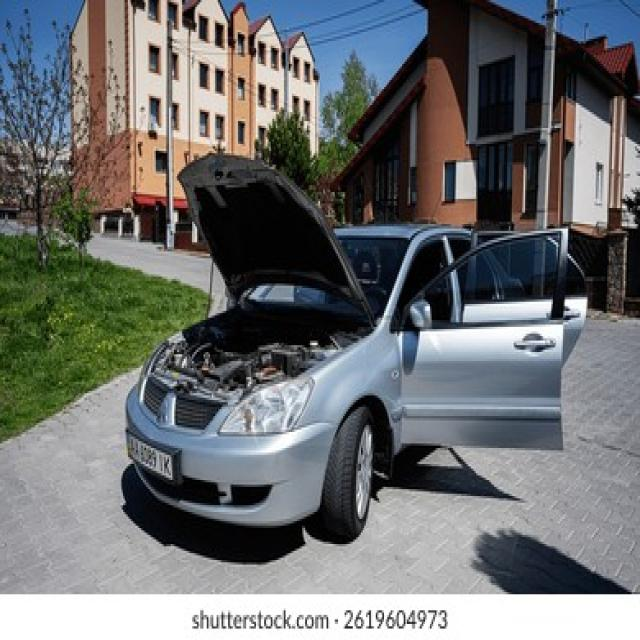mitsubishi: (152, 396, 171, 430)
